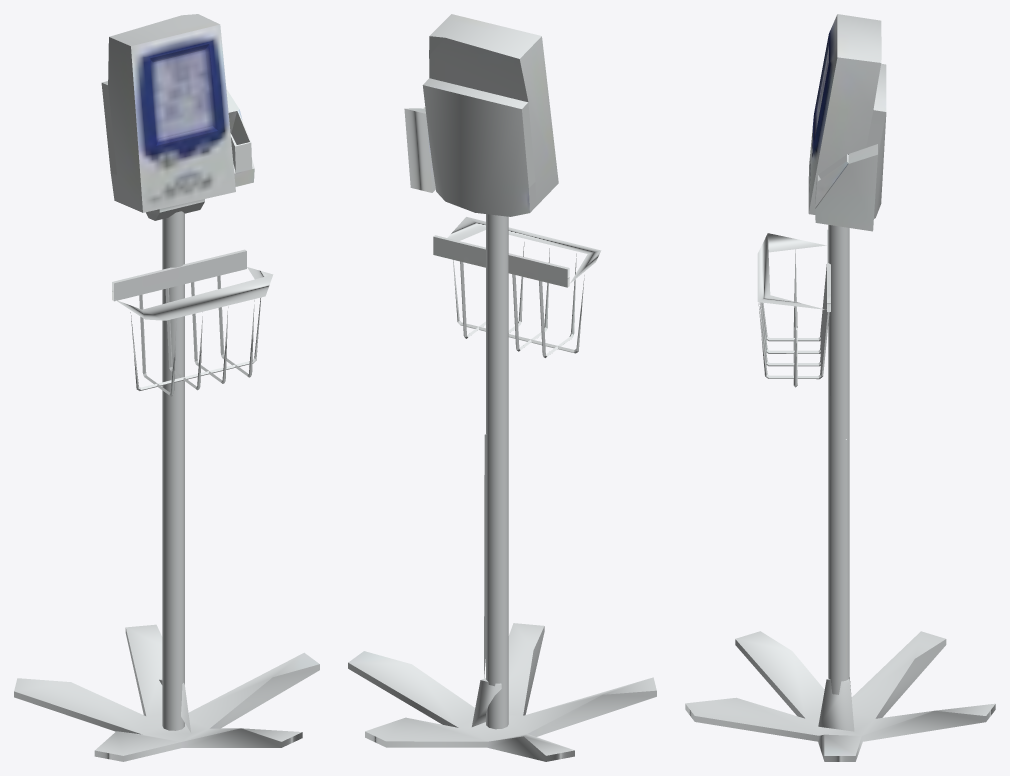
Rendered from vitals-monitor.pole-v1.lod0.glb.
The picture shows the model from 3 angles, left to right: view 1: azimuth 30°, elevation 25°; view 2: azimuth 150°, elevation 25°; view 3: azimuth 270°, elevation 25°; orthographic projection.
Parts seen in each view (by area): view 1: defaultMaterial; view 2: defaultMaterial; view 3: defaultMaterial.
Boxes of the visible parts, box(x1,y1,x2,y2) form: defaultMaterial: box(14, 14, 319, 761); defaultMaterial: box(348, 14, 656, 761); defaultMaterial: box(685, 14, 995, 761).
Bounding box in the file's own units: 0.5759 × 1.49 × 0.6056.
Materials: 1 (1 with a texture image).
